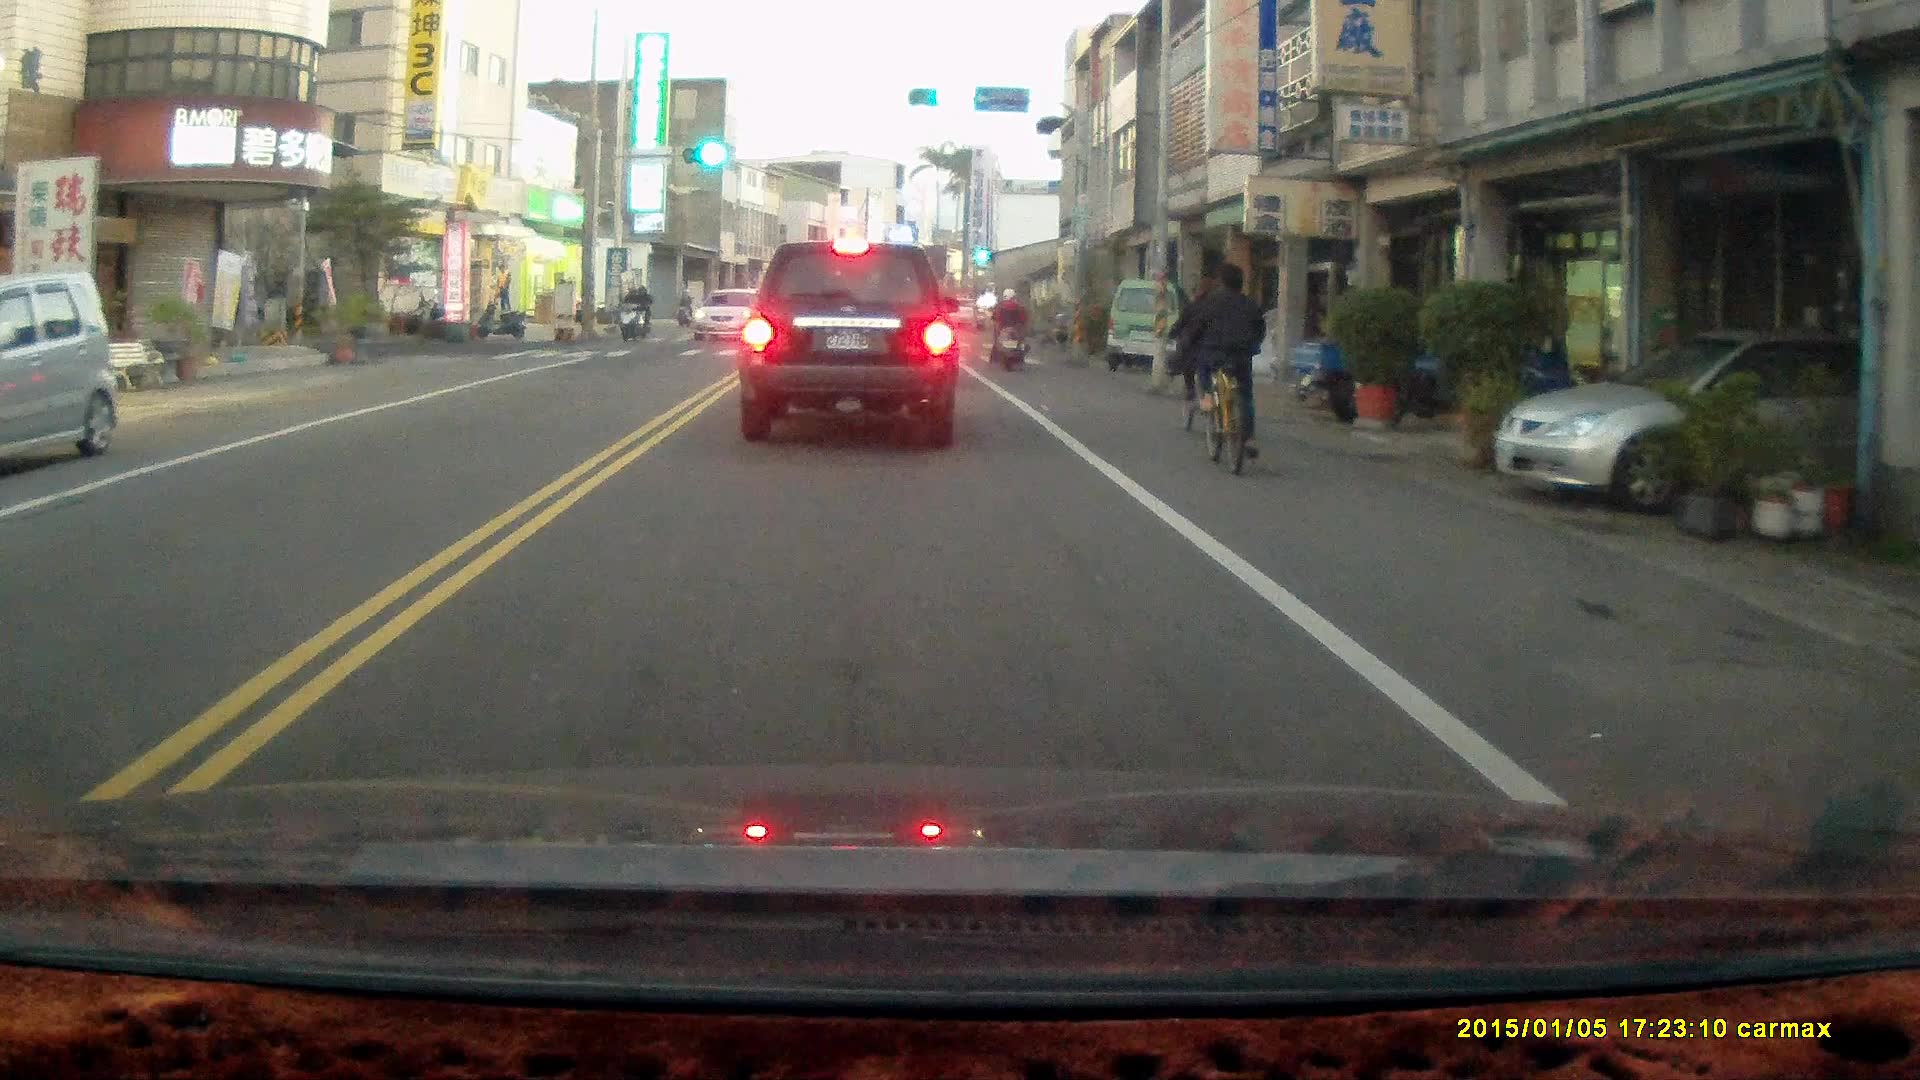pedestrian: (493, 261, 513, 312)
rider: (1190, 261, 1267, 473), (1168, 280, 1229, 444), (984, 286, 1032, 371), (616, 280, 648, 342), (672, 291, 693, 325)
vehicle: (1491, 328, 1920, 515), (739, 241, 963, 450), (1, 272, 125, 481), (1111, 279, 1202, 368)
